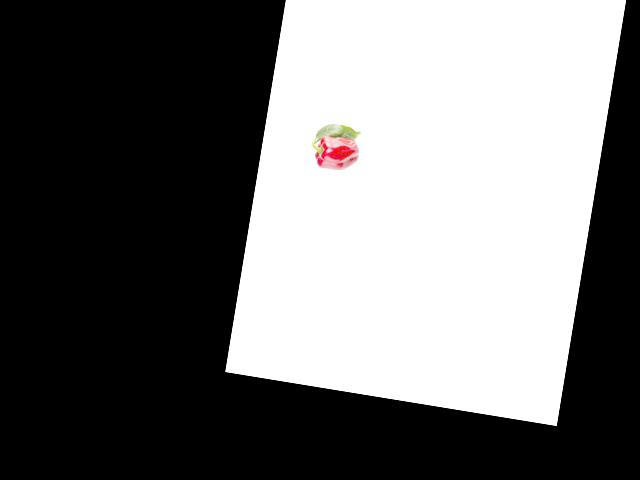bell_pepper: (308, 130, 363, 177)
